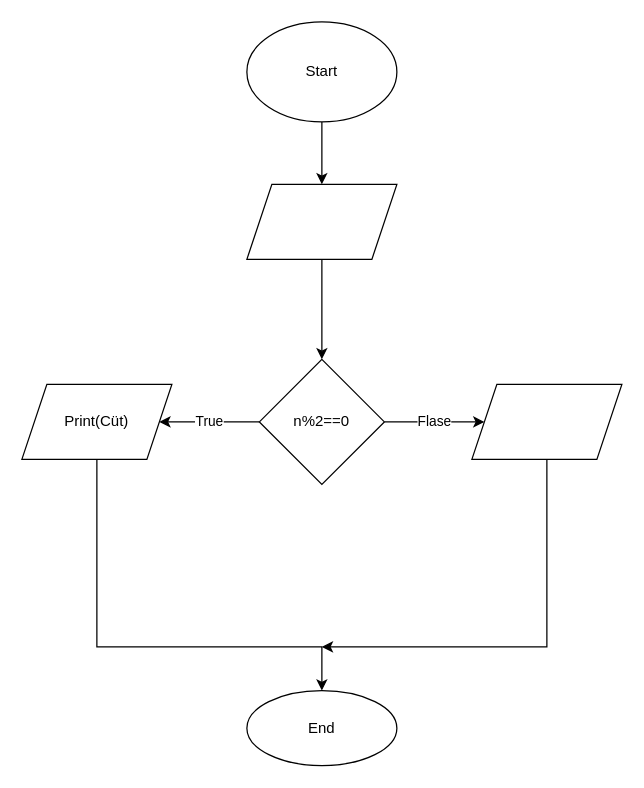
The diagram is 644 pixels wide and 788 high, and some of its shapes have lost their labels. Each missing label, with the box of its shape:
let n: (246, 183, 397, 259)
Print(Tek: (471, 383, 622, 459)
